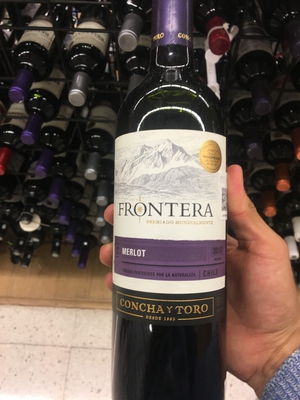frontera merlot: (104, 16, 246, 391)
